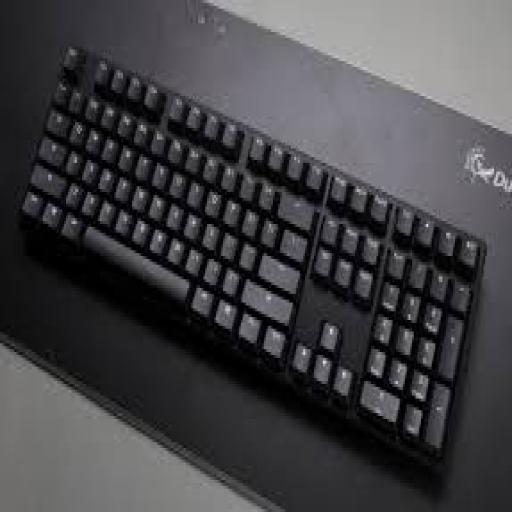KEYBOARD-2: (20, 47, 483, 457)
